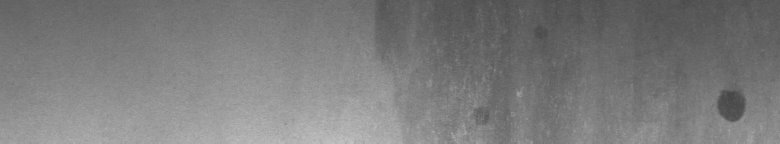fi: (712, 80, 751, 132)
